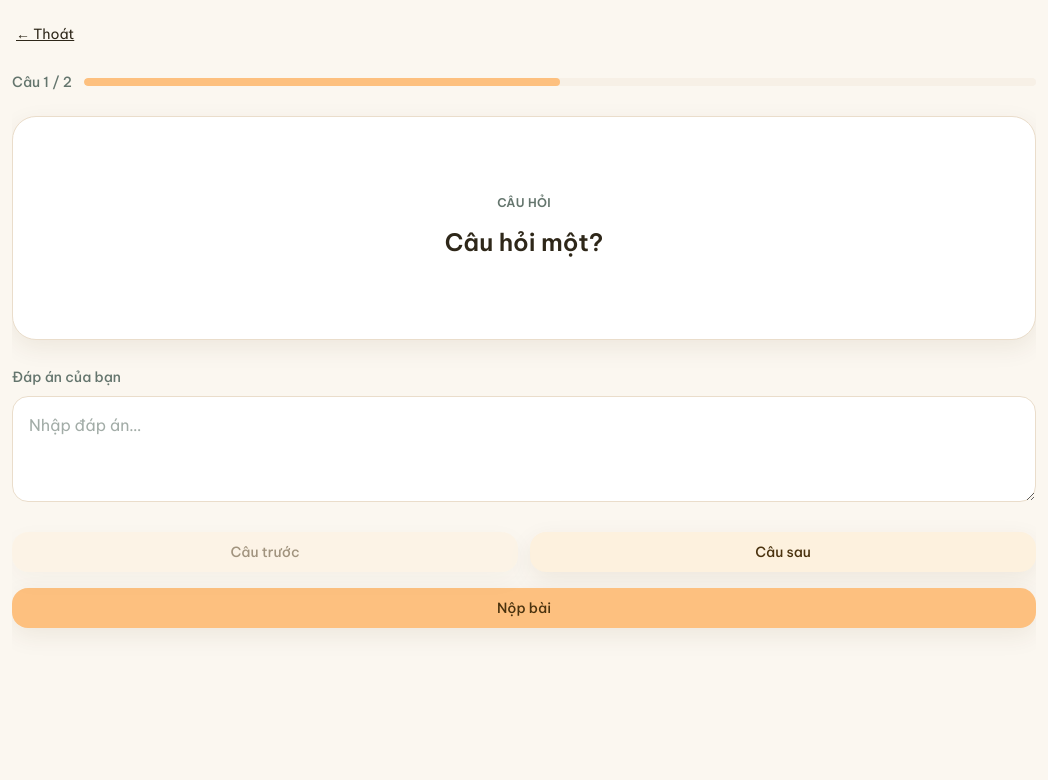
Scenario: TypingSession › warns about unanswered questions before submitting
Check: the text "Câu hỏi một?" is shown, box [445,222,603,262]
Click the button "Nộp bài": (524, 608) [12,588,1036,628]
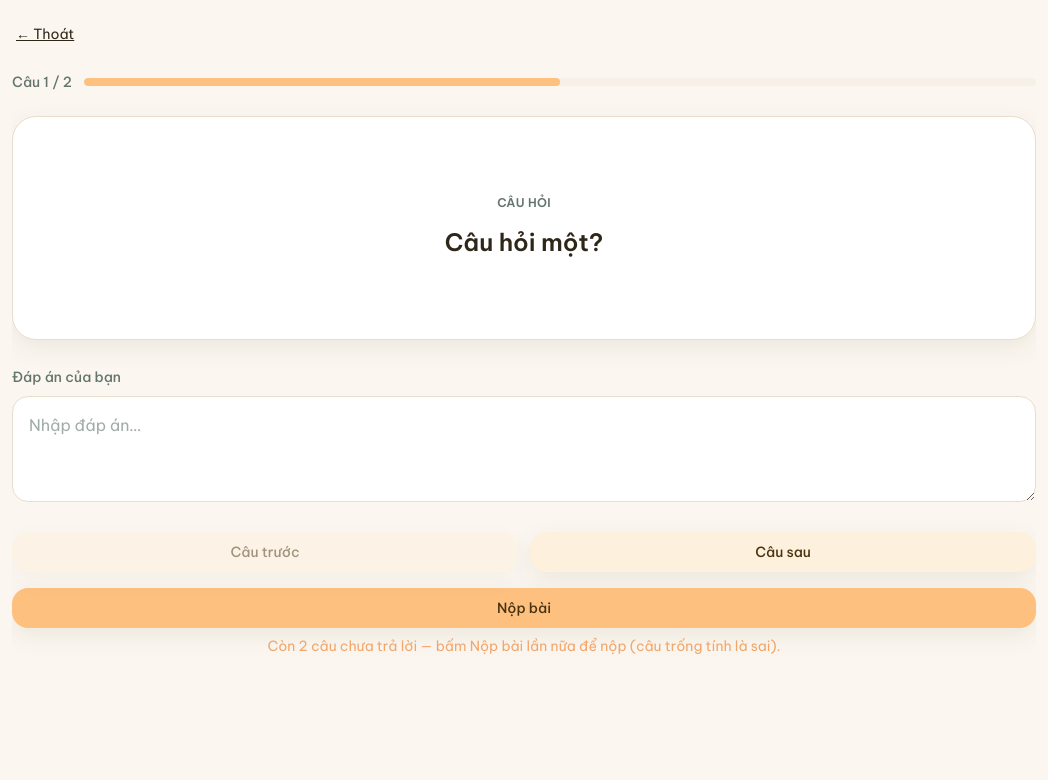
Check: the message shows "Còn 2 câu chưa trả lời", box [267,637,781,655]
